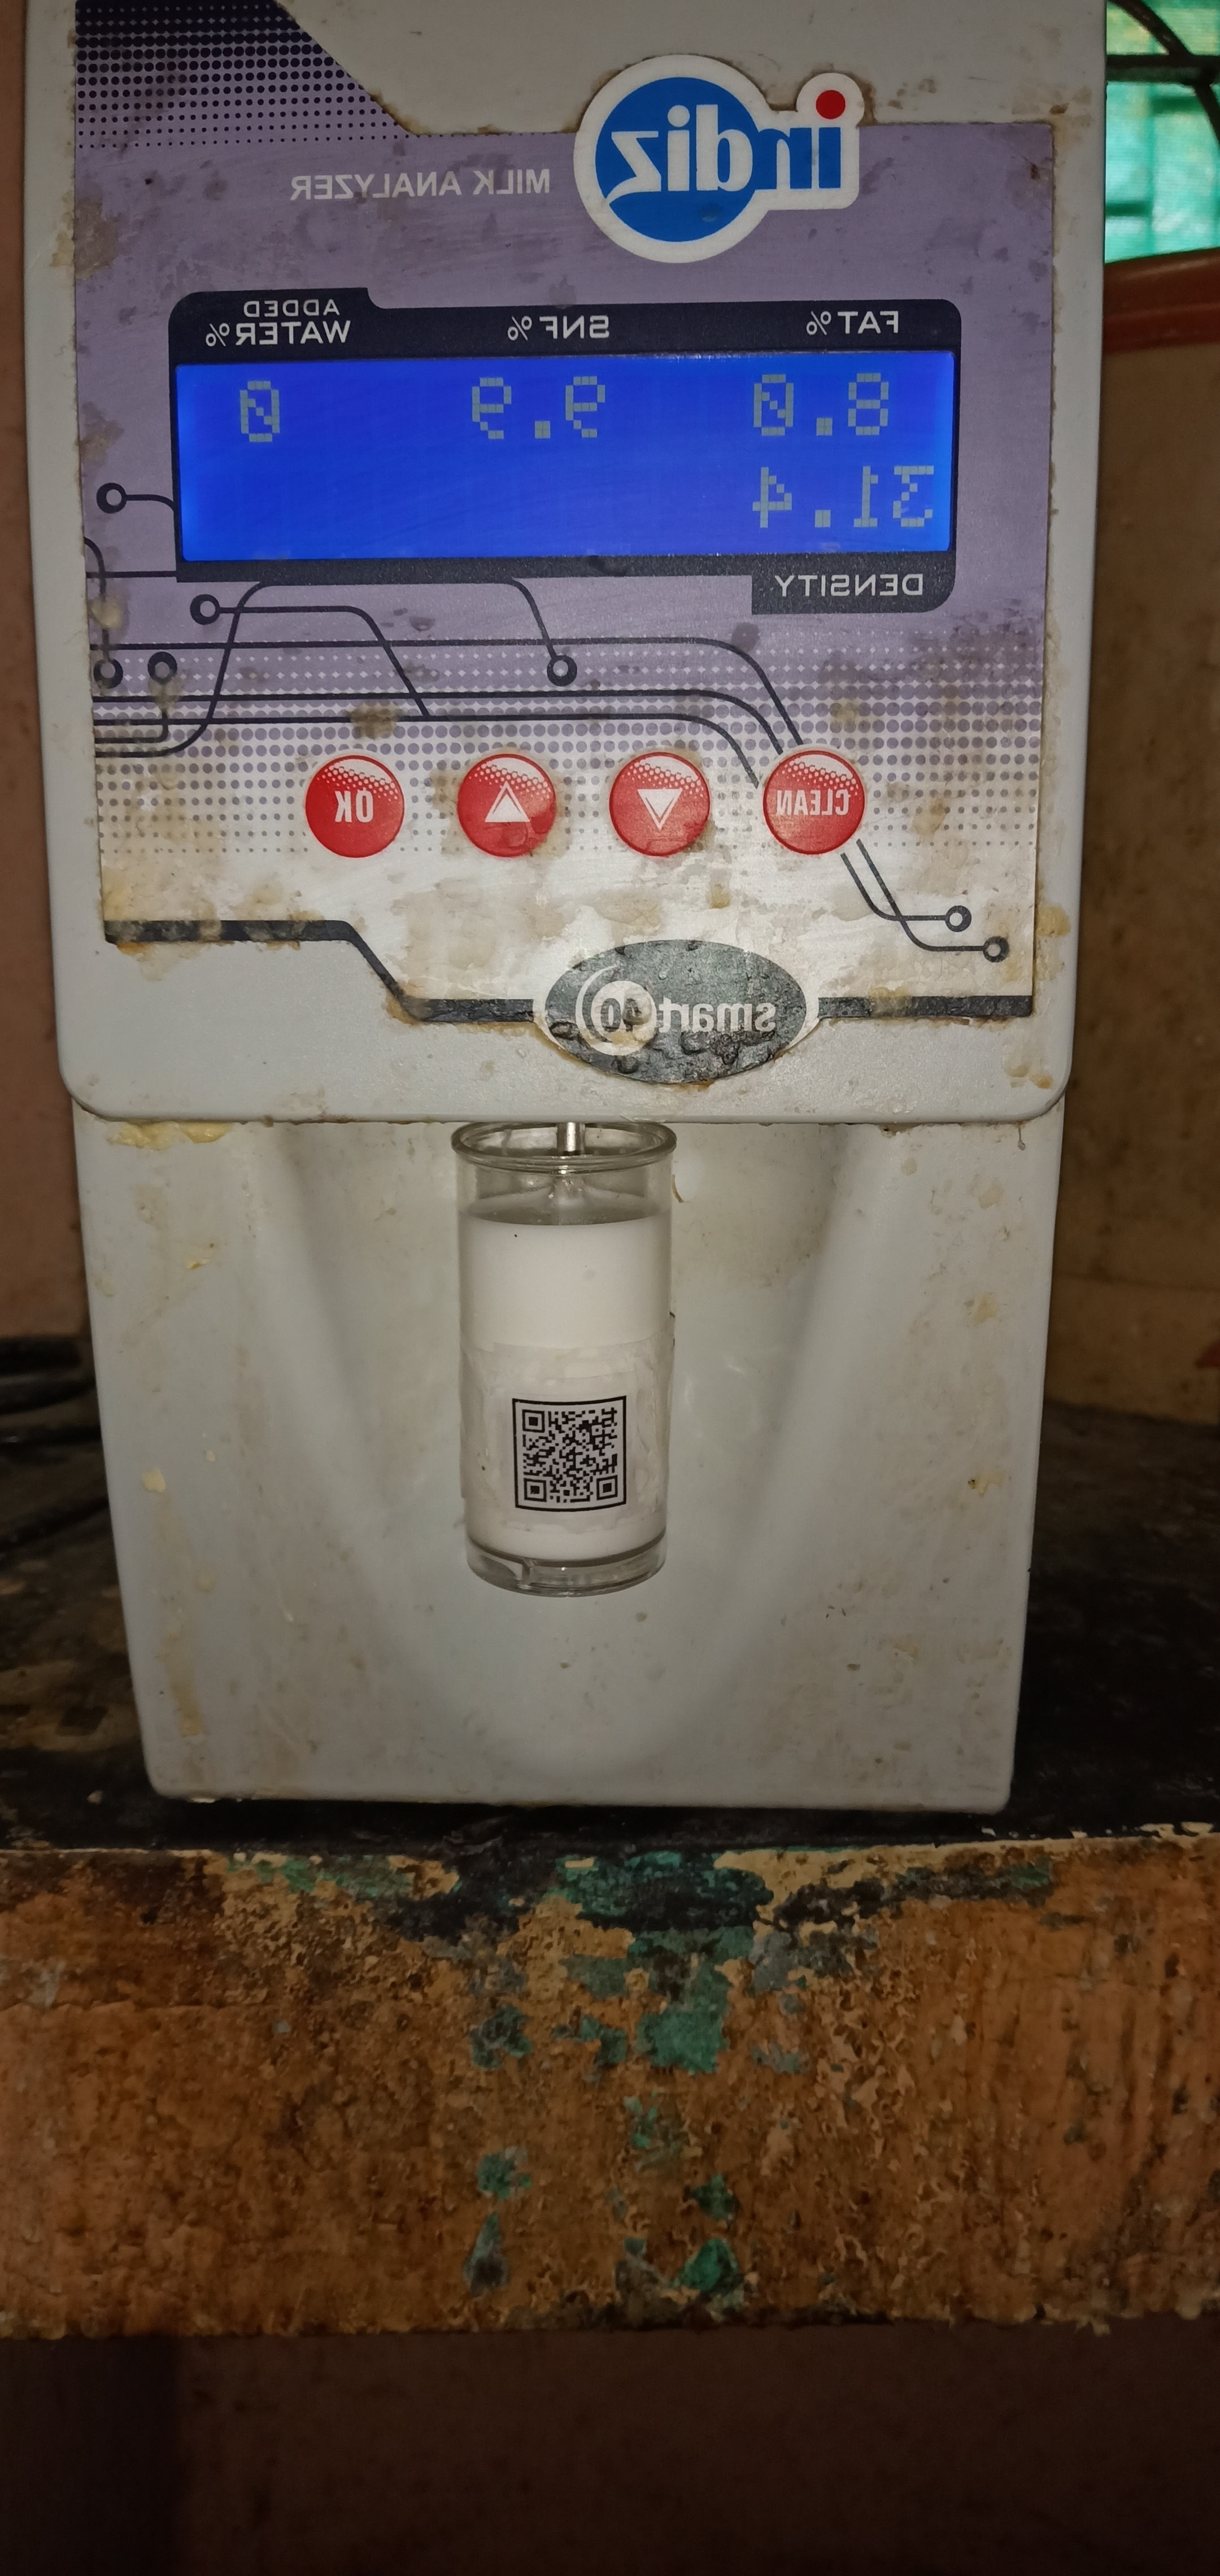lcd: (159, 271, 984, 629)
qr: (507, 1377, 660, 1541)
